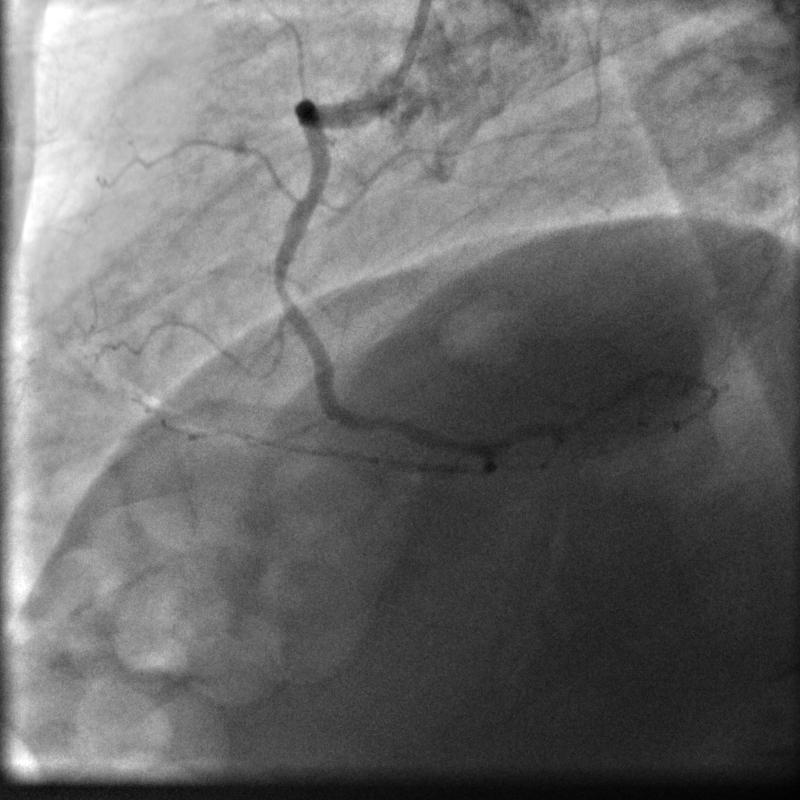Stenosis: (271, 272, 291, 304)
